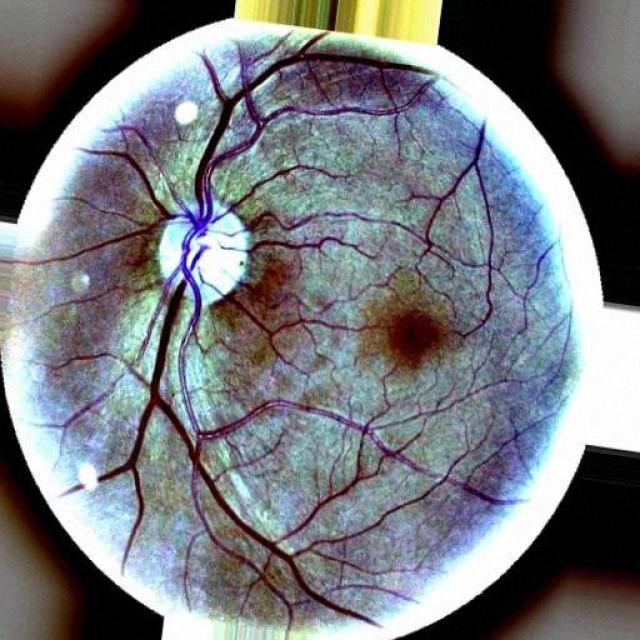Macula: (376, 289, 465, 370)
Nerves: (92, 314, 199, 485), (192, 67, 258, 181), (124, 159, 168, 203)
Optic Disk: (135, 188, 267, 320)
